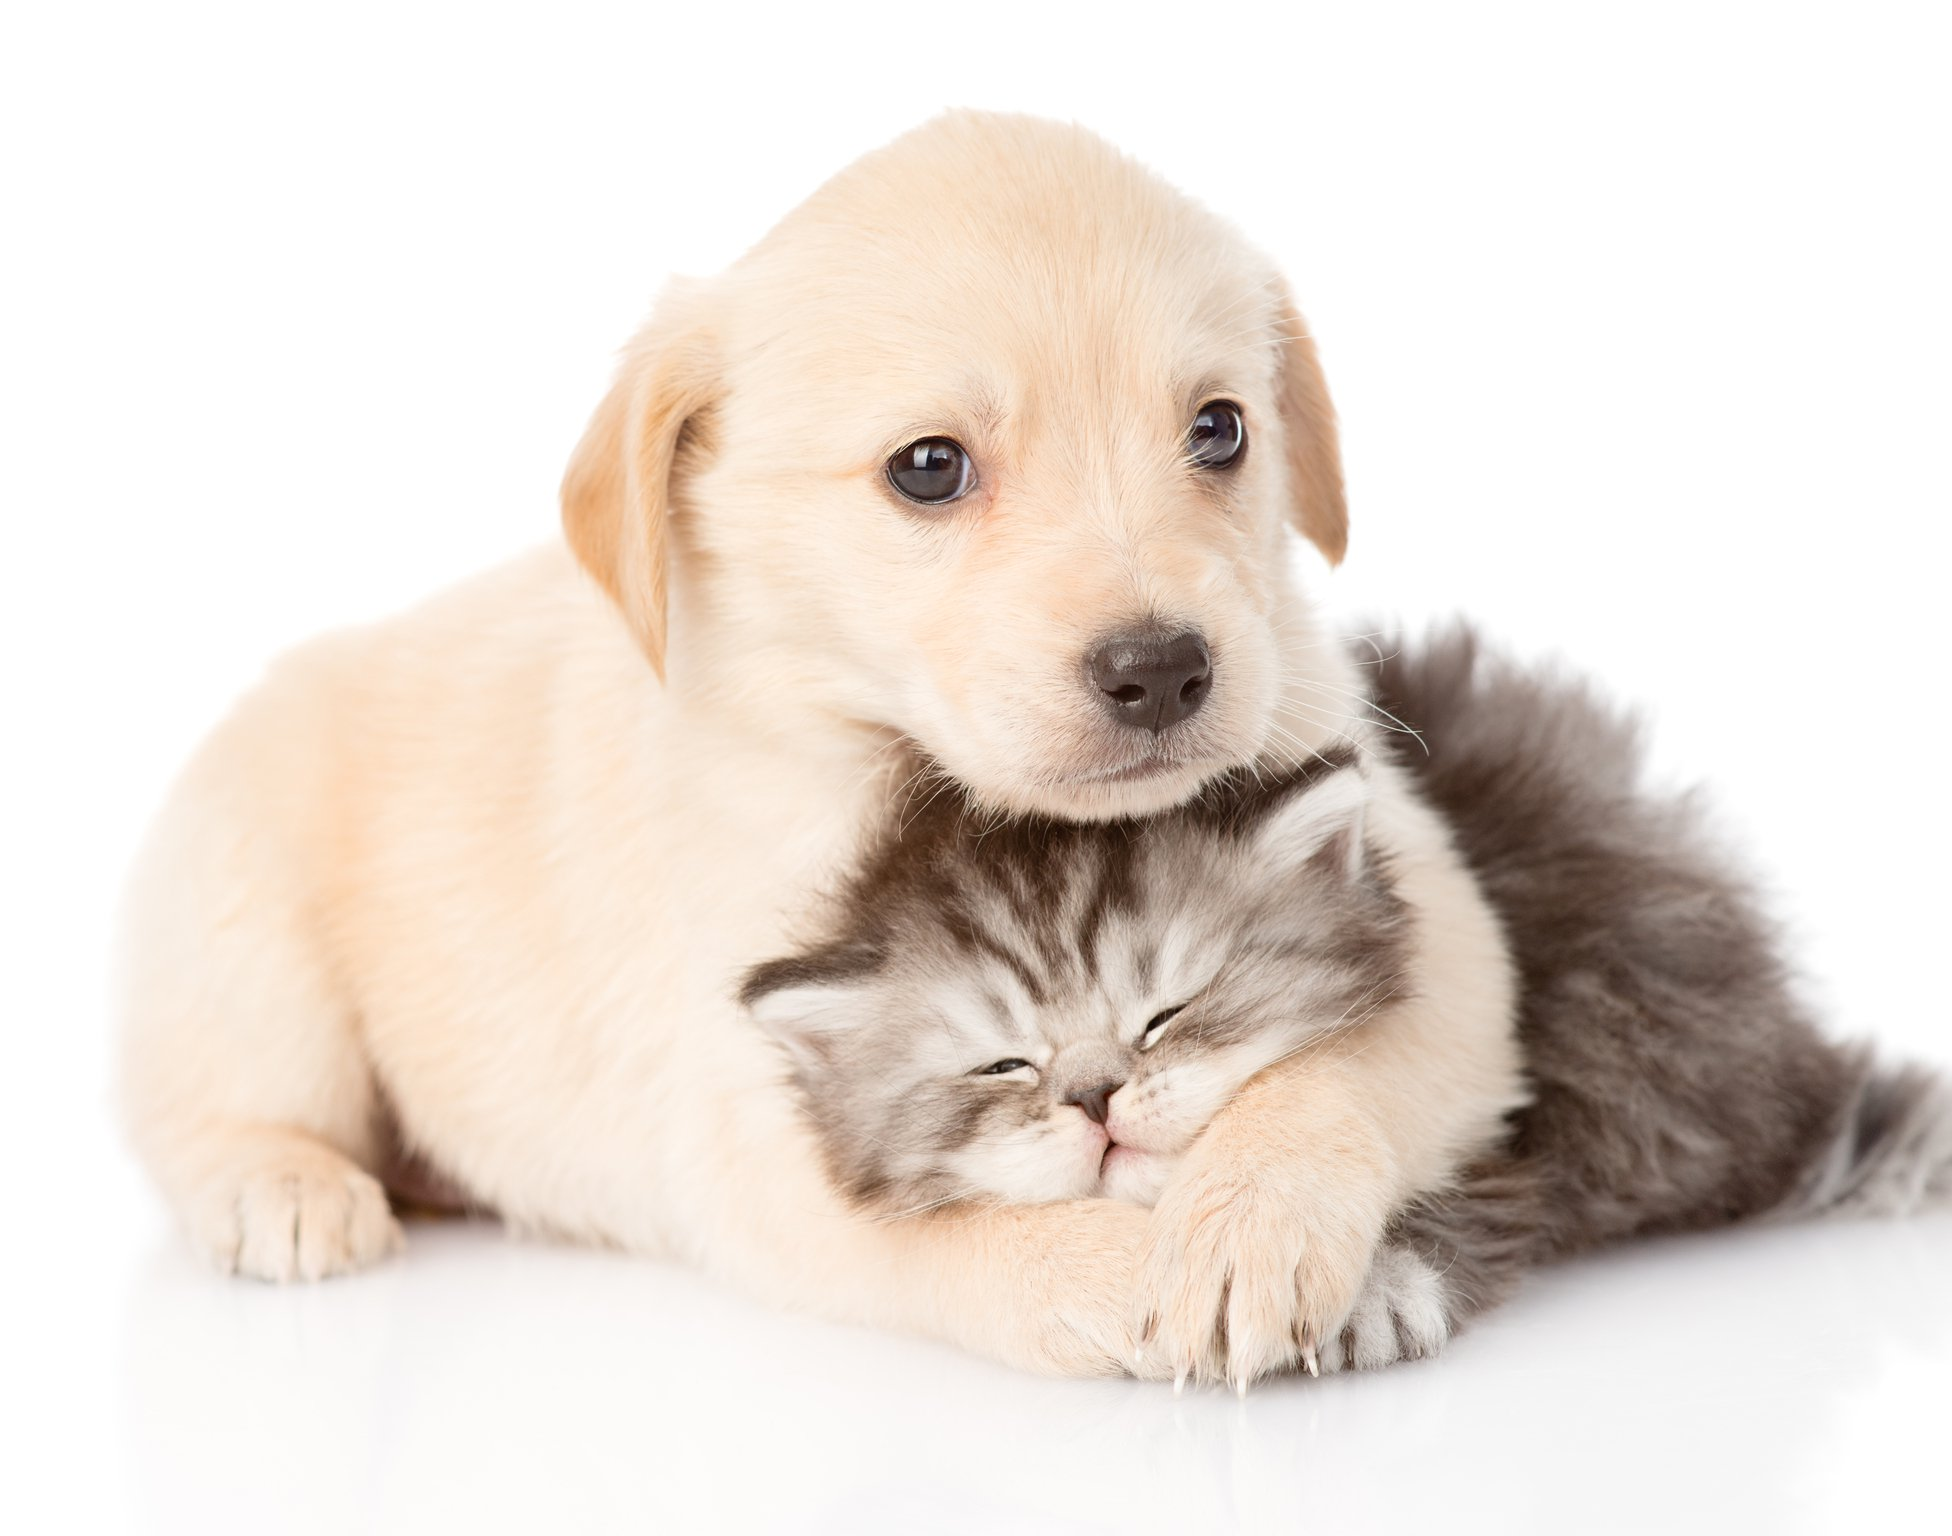cat: (757, 639, 1862, 1354)
dog: (274, 60, 1352, 881)
